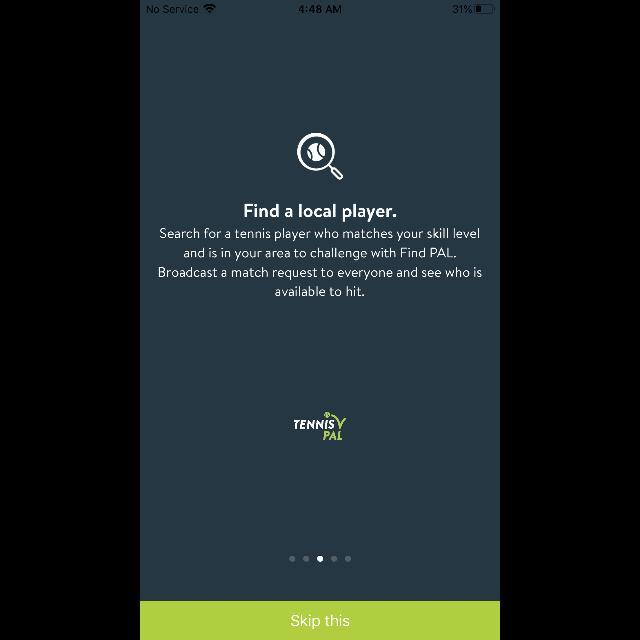image: (297, 132, 343, 180), (294, 412, 346, 440)
pageindicator: (289, 556, 351, 562)
text: (158, 228, 482, 296), (244, 204, 396, 222)
textbutton: (140, 600, 500, 640)
uppertaskbar: (140, 0, 500, 14)
